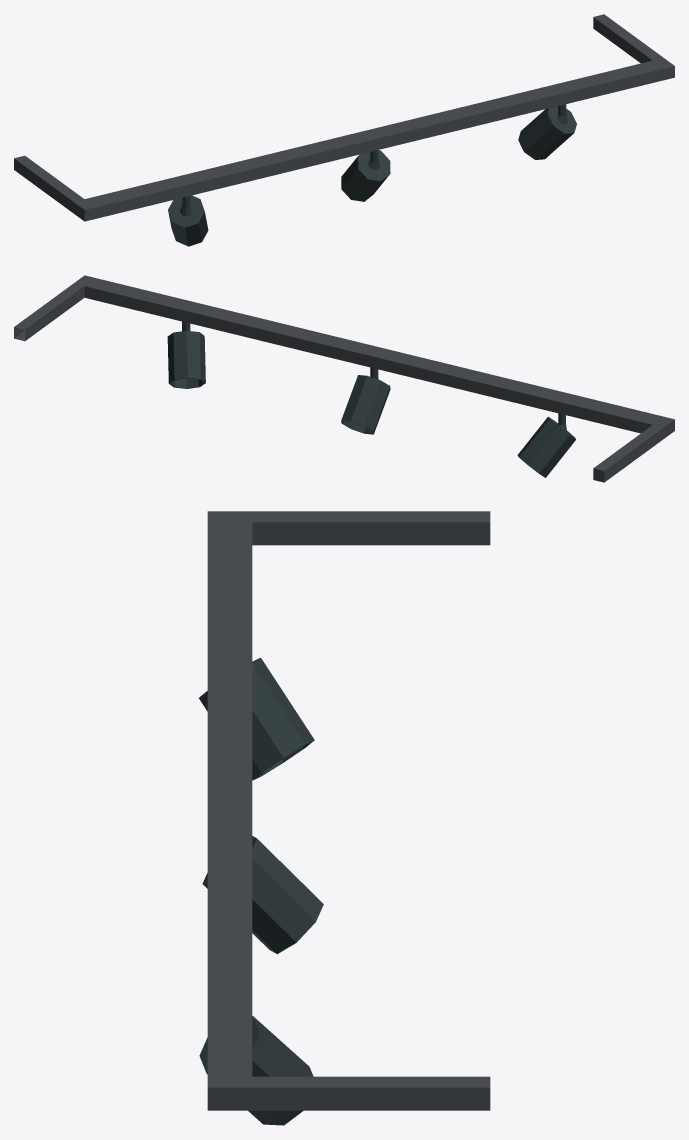
The model's file is LightWallSmall.glb.
3 views of the same model, one above another, from view 1: azimuth 30°, elevation 25°; view 2: azimuth 150°, elevation 25°; view 3: azimuth 270°, elevation 25° (orthographic). The views are drawn at different scales.
Parts seen in each view (by area): view 1: LightWallSmall; view 2: LightWallSmall; view 3: LightWallSmall.
Boxes of the visible parts, box(x1,y1,x2,y2) form: LightWallSmall: box(14, 14, 674, 246); LightWallSmall: box(14, 275, 674, 482); LightWallSmall: box(199, 511, 490, 1125).
Bounding box in the file's own units: 1.66 × 0.2023 × 0.3558.
1 material, 1 textured.
